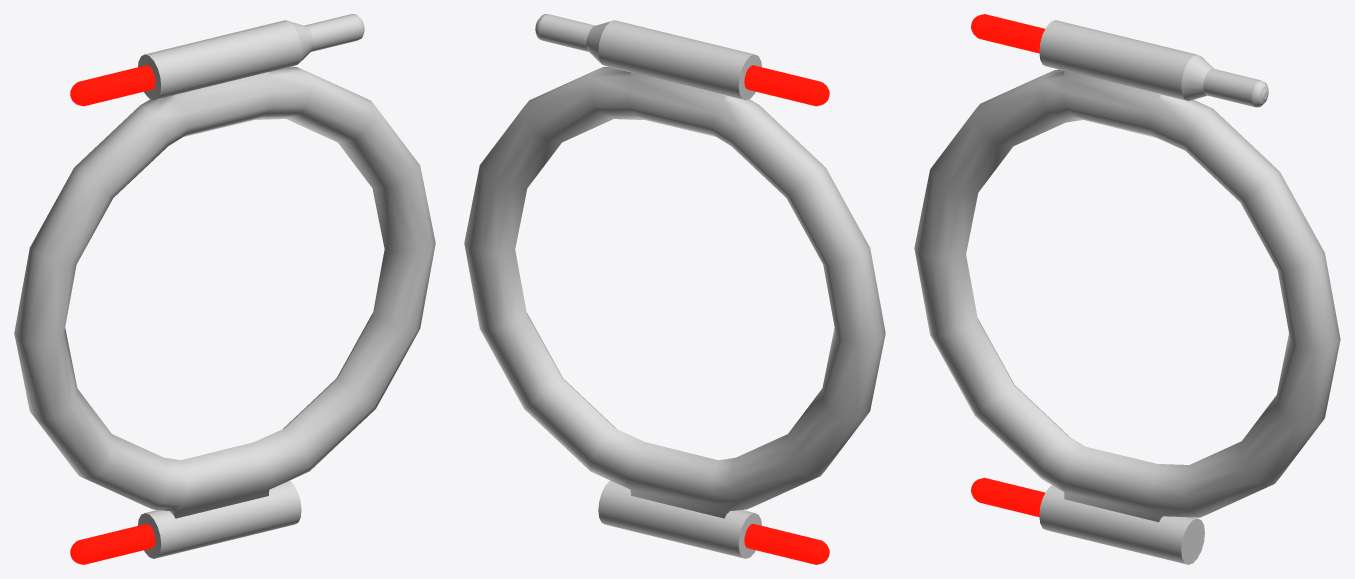
File: hoop_model_01 2.fbx
The picture shows the model from 3 angles, left to right: view 1: azimuth 30°, elevation 25°; view 2: azimuth 150°, elevation 25°; view 3: azimuth 330°, elevation 25°; orthographic projection.
Visible parts, largest first — view 1: Torus; view 2: Torus; view 3: Torus.
Boxes of the visible parts, left/top/right/bottom form: Torus: left=14, top=14, right=435, bottom=564; Torus: left=464, top=14, right=885, bottom=564; Torus: left=914, top=14, right=1340, bottom=564.
Size of the model in its own units: 7849 by 710 by 6751.
